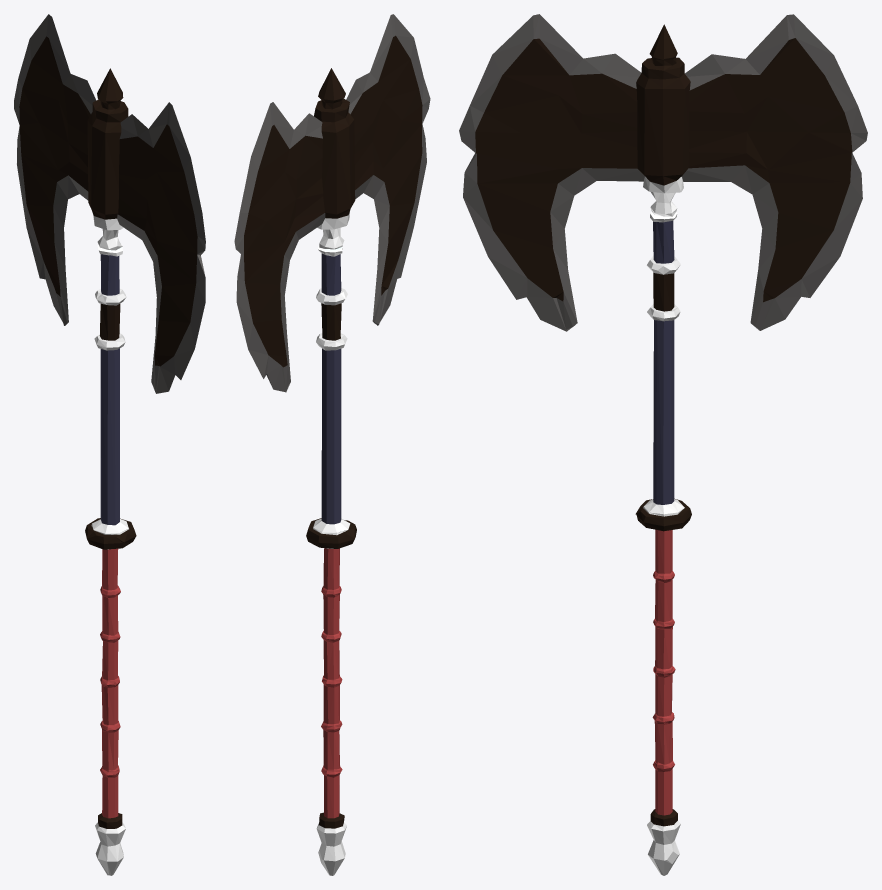
The model's file is SFFA_Weapon_Axe_Iron_005.fbx.
The picture shows the model from 3 angles, left to right: view 1: azimuth 30°, elevation 25°; view 2: azimuth 150°, elevation 25°; view 3: azimuth 270°, elevation 25°; orthographic projection. The views are drawn at different scales.
Parts seen in each view (by area): view 1: SFFA_Weapon_Axe_Iron_005; view 2: SFFA_Weapon_Axe_Iron_005; view 3: SFFA_Weapon_Axe_Iron_005.
Boxes of the visible parts, box(x1,y1,x2,y2) form: SFFA_Weapon_Axe_Iron_005: box(14, 14, 205, 875); SFFA_Weapon_Axe_Iron_005: box(234, 14, 430, 875); SFFA_Weapon_Axe_Iron_005: box(459, 14, 867, 875).
Bounding box in the file's own units: 8.5 × 143 × 61.7.
